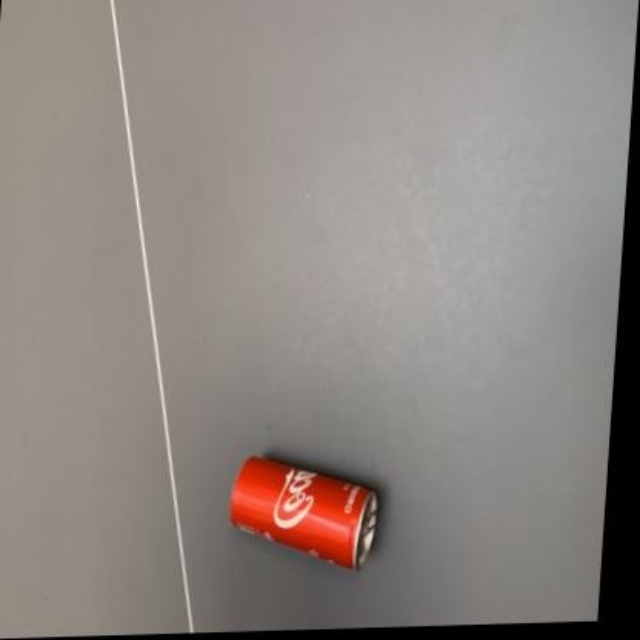trash: (231, 457, 377, 566)
